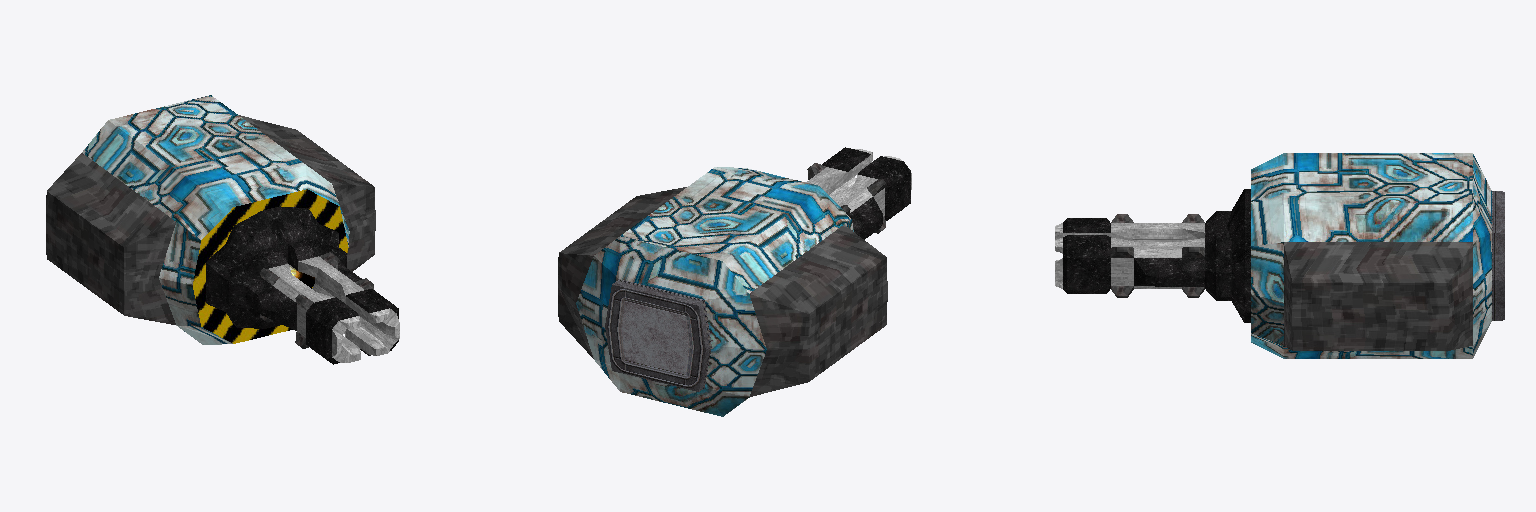
3 views of the same model, side by side, from view 1: azimuth 30°, elevation 25°; view 2: azimuth 150°, elevation 25°; view 3: azimuth 270°, elevation 25° (orthographic).
Visible parts, largest first — view 1: gunRail_Cylinder.020; view 2: gunRail_Cylinder.020; view 3: gunRail_Cylinder.020.
Part boxes in pixels (bbox=[...]): gunRail_Cylinder.020: bbox=[46, 95, 399, 364]; gunRail_Cylinder.020: bbox=[558, 147, 911, 416]; gunRail_Cylinder.020: bbox=[1055, 153, 1504, 358].
Size of the model in its own units: 0.3015 by 0.1781 by 0.4667.
2 materials, 1 textured.